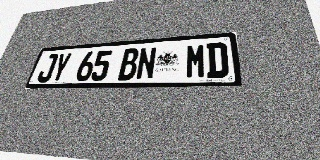5: (90, 50, 112, 81)
6: (74, 51, 97, 81)
B: (117, 48, 140, 80)
D: (206, 42, 229, 78)
J: (36, 54, 59, 82)
M: (185, 43, 206, 79)
N: (135, 47, 157, 80)
Y: (49, 53, 72, 82)
